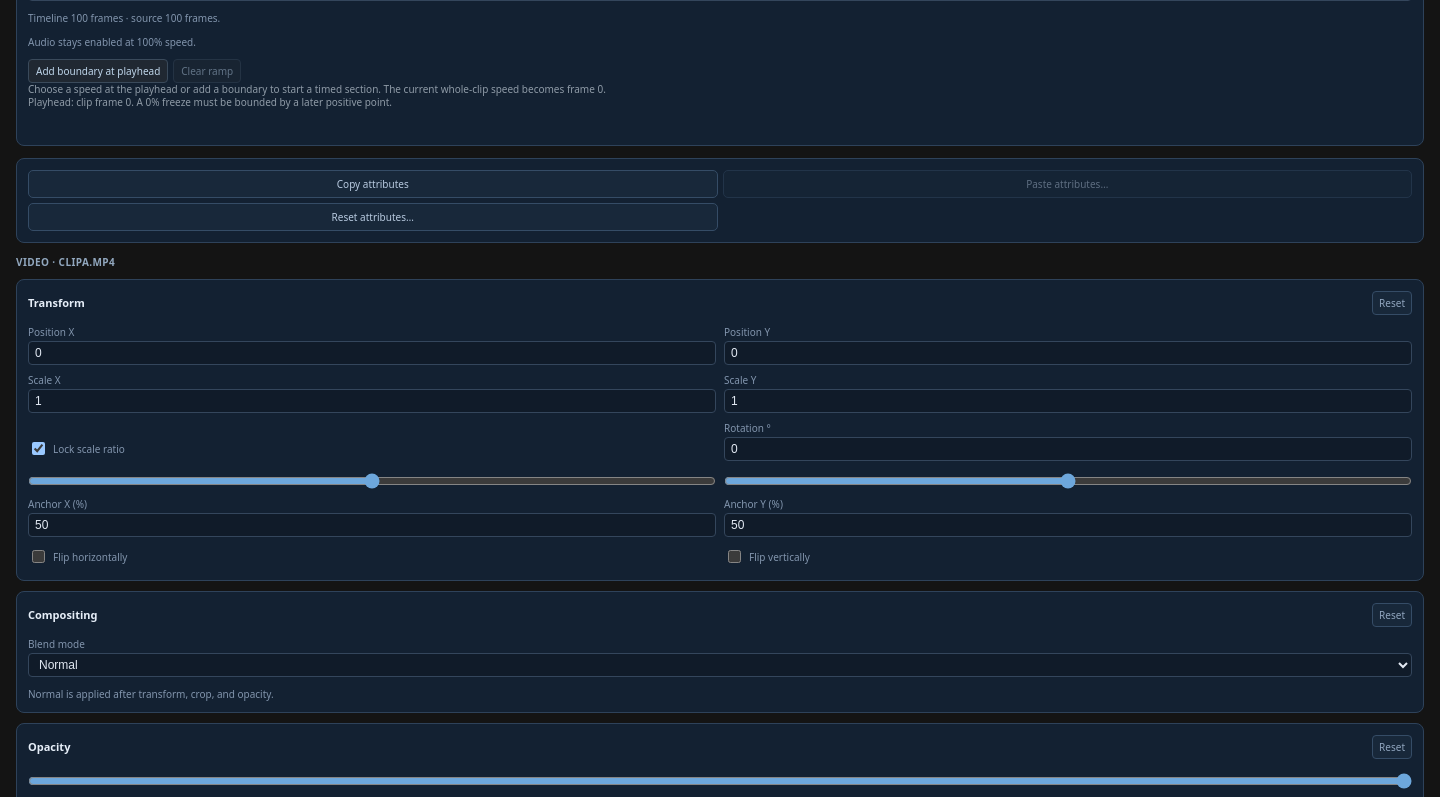
Test: Inspector › junk and empty input revert without committing
This screenshot has width=1440, height=797.
(page scrolled)
Step 1. Clear the number field with test id "inspector-scale-x" → (372, 400), box [28,388,716,412]
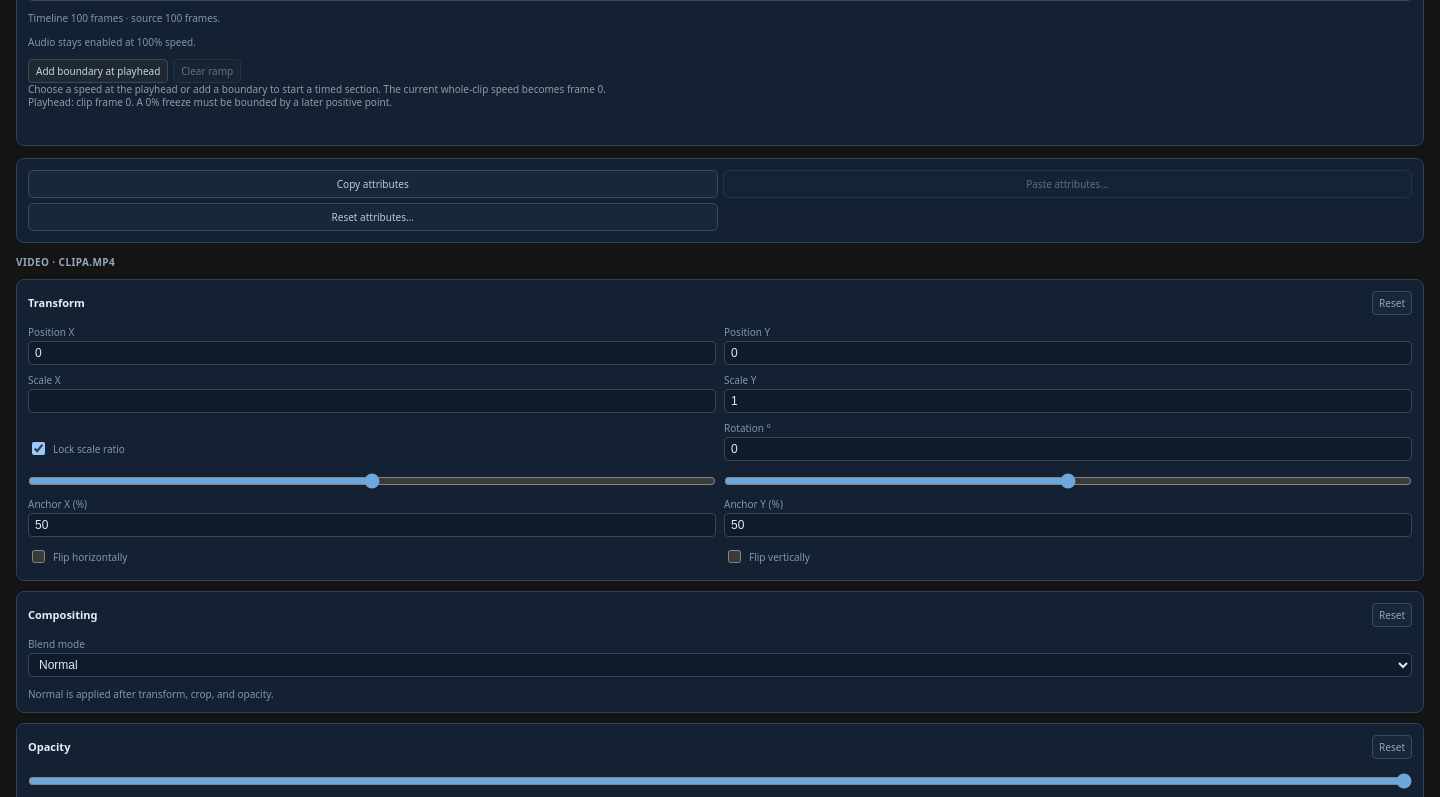
Step 2. Leave the number field with test id "inspector-scale-x", box [28,388,716,412]
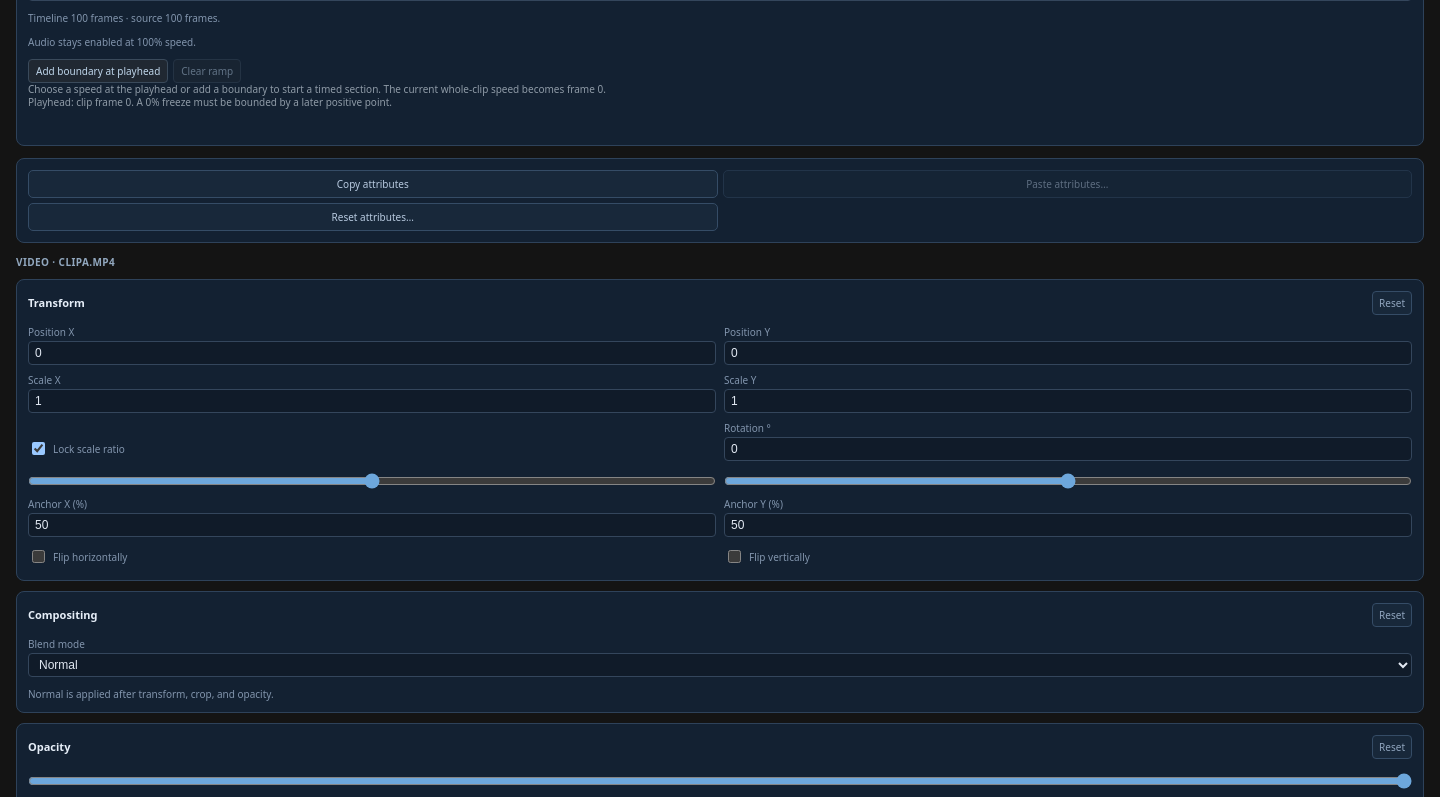
Expected: the number field with test id "inspector-scale-x" holds "1", [28,388,716,412]
